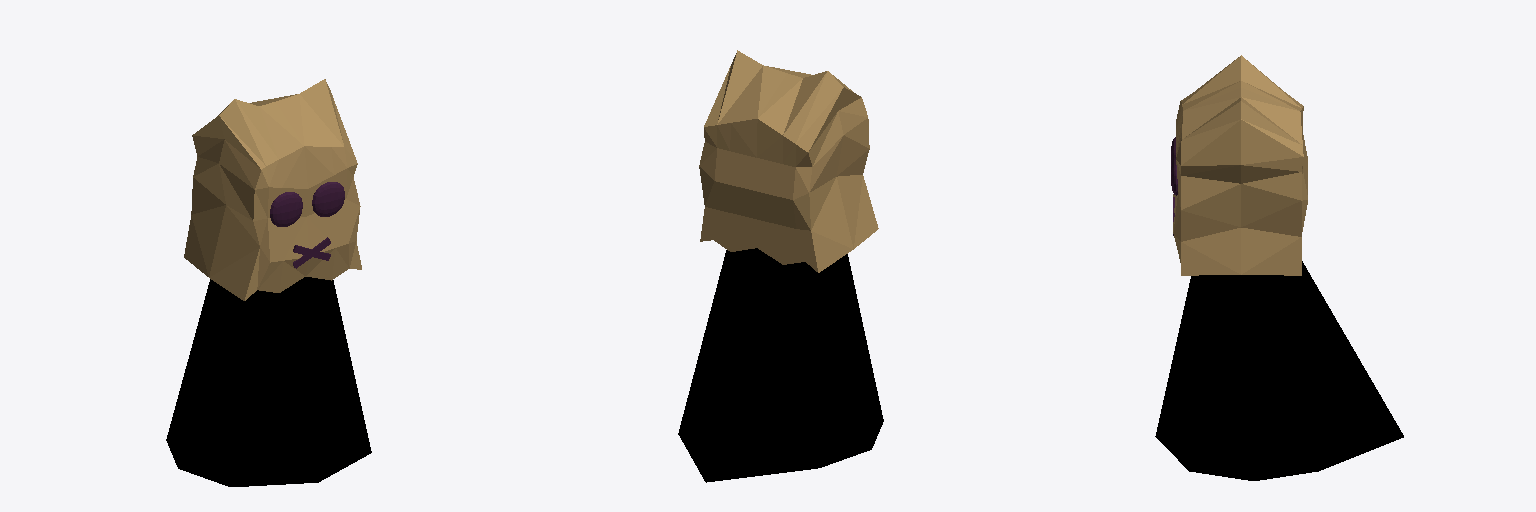
3 views of the same model, side by side, from view 1: azimuth 30°, elevation 25°; view 2: azimuth 150°, elevation 25°; view 3: azimuth 270°, elevation 25° (orthographic).
Parts seen in each view (by area): view 1: head; view 2: head; view 3: head.
Boxes of the visible parts, <box> form: head: <box>166,79,371,486</box>; head: <box>678,50,883,482</box>; head: <box>1155,55,1403,480</box>.
Size of the model in its own units: 1.42 by 2.71 by 1.69.
Materials: 1 (1 with a texture image).